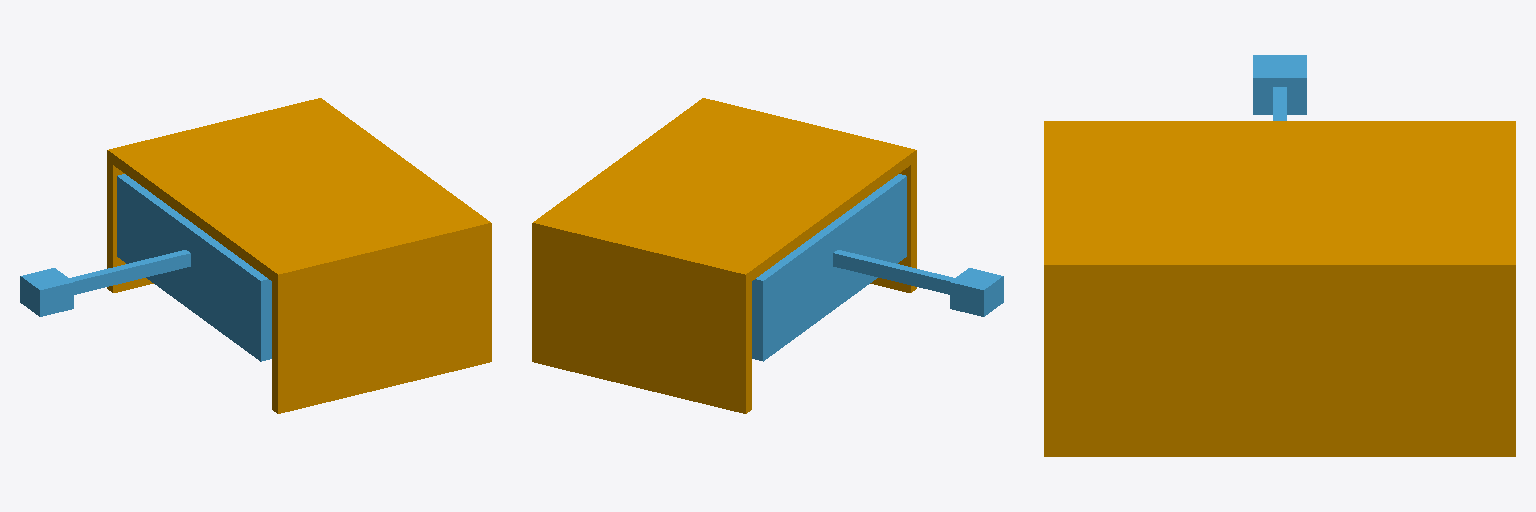
robot.urdf — drawer:
<?xml version="1.0" ?>
<robot name="drawer">
  <!-- Cabinet -->
  <link name="cabinet_link">
    <contact>
      <friction_anchor/>
      <lateral_friction value="2.0"/> <!--  lateral friction for stability -->
      <rolling_friction value="2.01"/> <!--  rolling friction for stability -->
    </contact>
    <inertial>
       <origin rpy="0 0 0" xyz="0 0 0"/>
       <mass value="10.1"/>
            <inertia ixx="0.0" ixy="0.0" ixz="0.0" iyy="0.0" iyz="0.0" izz="0.0" />
    </inertial>
    <visual>
      <geometry>
        <mesh filename="./cabinet/cabinet_convex.obj" scale="1 0.95 1"/>
      </geometry>
    </visual>
    <collision>
      <geometry>
    	 	<mesh filename="./cabinet/cabinet_convex.obj" scale="1 0.95 1"/>
      </geometry>
    </collision>
  </link>


  <!-- Drawer  -->
  <link name="drawer_link">
    <contact>
      <friction_anchor/>
      <lateral_friction value="25.1"/> <!--  lateral friction 6.1 for non vhacd -->
      <rolling_friction value="30.6"/> <!--  rolling friction 7.6 -->
    </contact>
    <inertial>
       <origin rpy="0 0 0" xyz="0 0 -0.1"/>
       <mass value="0.1"/>
            <inertia ixx="0.0" ixy="0.0" ixz="0.0" iyy="0.0" iyz="0.0" izz="0.0" />
    </inertial>
    <visual>
      <geometry>
        <mesh filename="./drawer/drawer_convex.obj" scale="0.8 0.8 0.6"/>
      </geometry>
    </visual>
    <collision>
      <geometry>
    	 	<mesh filename="./drawer/drawer_convex.obj" scale="0.8 0.8 0.6"/>
      </geometry>
    </collision>
  </link>
 
  <joint name="drawer_joint" type="prismatic">
    <parent link="cabinet_link"/>
    <child link="drawer_link"/>
    <origin xyz="0 0 0" rpy="0 0 0"/>
    <axis xyz="-1 0 0"/>
        <dynamics damping="0" friction="0" />
        <limit lower="0" upper="0.13" effort="100" velocity="5"/>
  </joint>


    <joint name="handle_joint" type="fixed">
    <parent link="drawer_link"/>
    <child link="handle"/>
    <origin rpy="0 0 0" xyz="-0.195 0.0 -0.028"/>
  </joint>
  <link name="handle">
    <inertial>
       <origin rpy="0 0 0" xyz="0 0 -0.1"/>
       <mass value="0.0000001"/>
            <inertia ixx="0.0" ixy="0.0" ixz="0.0" iyy="0.0" iyz="0.0" izz="0.0" />
    </inertial>
    <visual>
      <origin rpy="0 0 0" xyz="0 0.0 0"/>
      <geometry>
        <sphere radius="0.01"/>
      </geometry>
    <material name="green">
        <color rgba="0.0 1 0.0 1.0"/>
    </material>

    </visual>
  </link>

    <joint name="drawer_inside_joint" type="fixed">
    <parent link="drawer_link"/>
    <child link="drawer_bottom"/>
    <origin rpy="0 0 0" xyz="-0.02 0.0 -0.025"/>
  </joint>
  <link name="drawer_bottom">
    <inertial>
       <origin rpy="0 0 0" xyz="0 0 -0.1"/>
       <mass value="0.0000001"/>
            <inertia ixx="0.0" ixy="0.0" ixz="0.0" iyy="0.0" iyz="0.0" izz="0.0" />
    </inertial>
    <visual>
      <origin rpy="0 0 0" xyz="0 0.0 0"/>
      <geometry>
        <sphere radius="0.000001"/>
      </geometry>
    <material name="blue">
        <color rgba="1.0 0 1.0 0.0"/>
    </material>
    </visual>
  </link>
  
</robot>

--- Render facts (derived) ---
3 views of the same robot in one strip: view 1: azimuth 30°, elevation 25°; view 2: azimuth 150°, elevation 25°; view 3: azimuth 270°, elevation 25° (orthographic).
Model drawer with 4 links and 3 joints (1 prismatic, 2 fixed), rooted at cabinet_link, posed all joints at 0.
Visible links, largest first — view 1: cabinet_link, drawer_link; view 2: cabinet_link, drawer_link; view 3: cabinet_link, drawer_link.
Boxes of the visible links, x1=… form: cabinet_link: x1=107, y1=98, x2=491, y2=413; drawer_link: x1=20, y1=174, x2=271, y2=361; cabinet_link: x1=532, y1=98, x2=916, y2=413; drawer_link: x1=752, y1=174, x2=1003, y2=361; cabinet_link: x1=1044, y1=121, x2=1515, y2=456; drawer_link: x1=1253, y1=55, x2=1306, y2=120.
Bounding box of the posed robot: 0.3524 × 0.2774 × 0.125 m (x, y, z).
2 mesh visuals loaded from 2 distinct referenced files (2 OBJ).